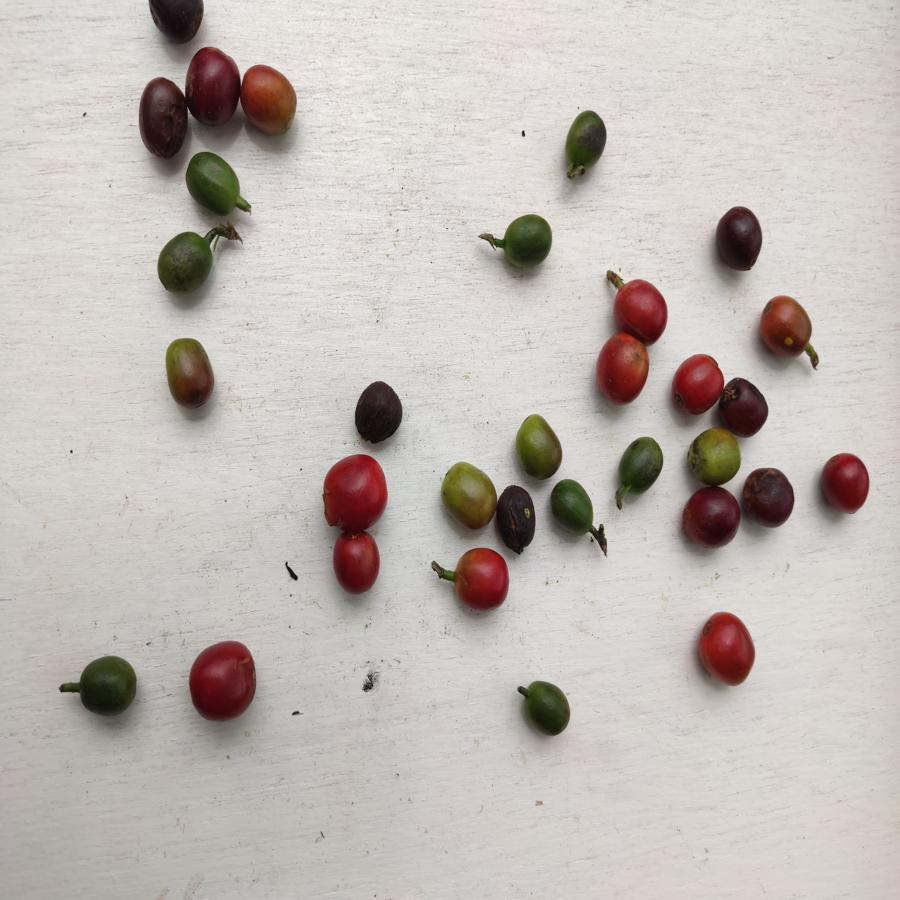Inmaduro: (76, 652, 137, 722), (157, 229, 214, 294), (185, 149, 240, 215), (499, 213, 556, 272), (548, 479, 596, 540), (561, 111, 608, 173), (524, 680, 574, 737), (618, 435, 666, 492)
Maduro: (185, 639, 259, 725), (320, 453, 389, 535), (697, 611, 756, 690), (614, 281, 677, 345), (820, 451, 873, 525), (596, 335, 652, 404), (452, 549, 510, 613), (330, 534, 385, 599), (671, 353, 723, 414)
Pinton: (238, 64, 306, 142), (440, 457, 499, 532), (164, 338, 217, 417), (686, 427, 743, 487), (515, 415, 565, 478)
Sobremaduro: (135, 77, 188, 159), (185, 47, 238, 128), (712, 207, 770, 275), (682, 488, 742, 547), (350, 382, 405, 445), (742, 466, 796, 529), (720, 375, 771, 437), (496, 484, 536, 557), (144, 1, 208, 41)
